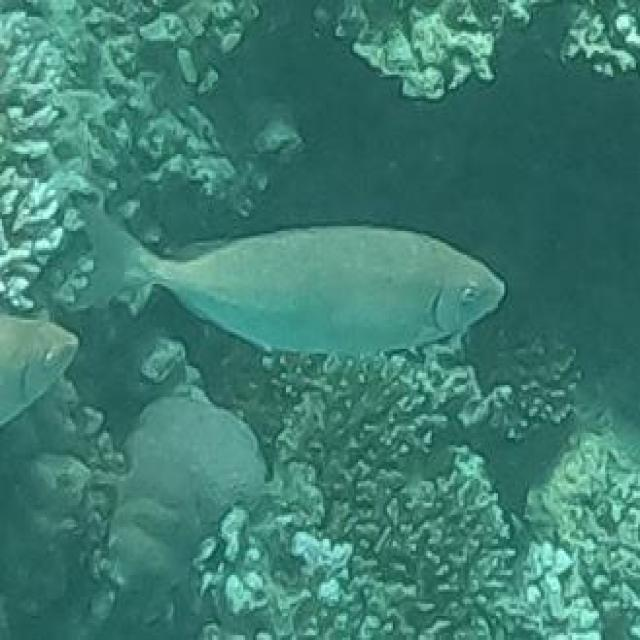Sokar Baligi: (63, 178, 518, 366)
